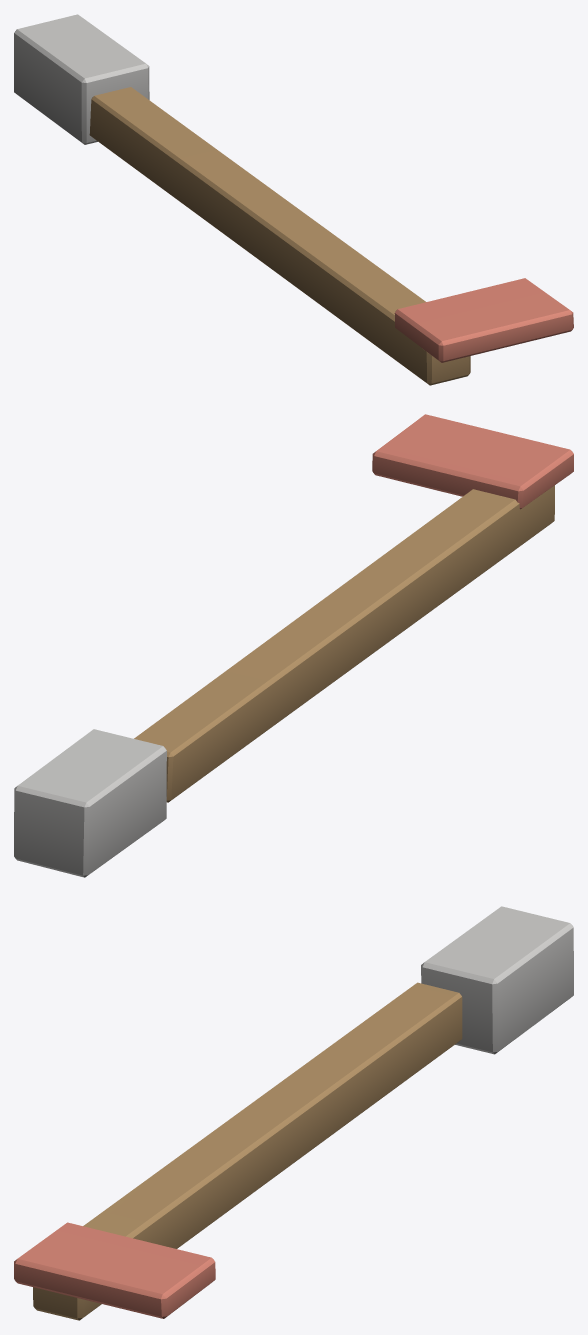
Rendered from bolt.glb.
3 views of the same model, one above another, from view 1: azimuth 30°, elevation 25°; view 2: azimuth 150°, elevation 25°; view 3: azimuth 330°, elevation 25° (orthographic). The views are drawn at different scales.
Visible parts, largest first — view 1: Shaft, Tip, Fletch; view 2: Shaft, Tip, Fletch; view 3: Shaft, Tip, Fletch.
Part boxes in pixels (box(x1,y1,x2,y2)): Shaft: box(89, 87, 470, 385); Tip: box(14, 14, 149, 144); Fletch: box(394, 278, 573, 362); Shaft: box(134, 485, 554, 802); Tip: box(14, 729, 166, 877); Fletch: box(372, 414, 573, 509); Shaft: box(33, 982, 462, 1320); Tip: box(421, 906, 573, 1054); Fletch: box(14, 1222, 215, 1318).
Size of the model in its own units: 0.0633 by 0.0298 by 0.3487.
